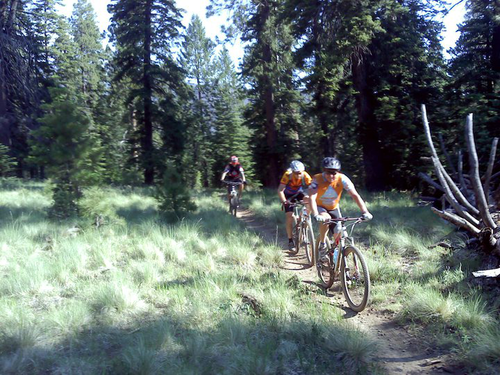bikerider: (305, 151, 380, 323), (275, 154, 317, 267), (217, 148, 247, 225)
